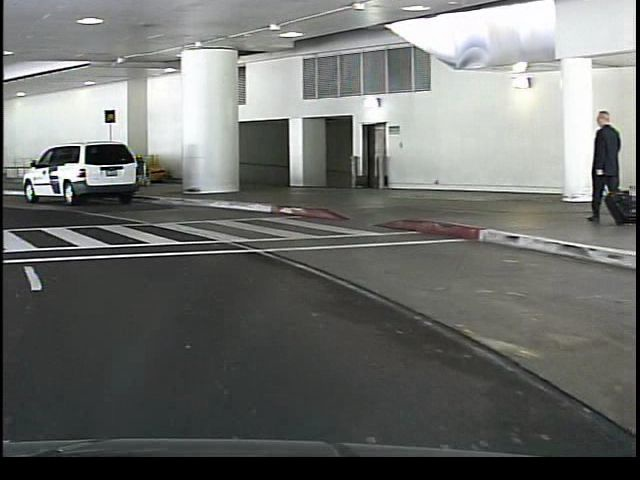person: (580, 105, 618, 227)
